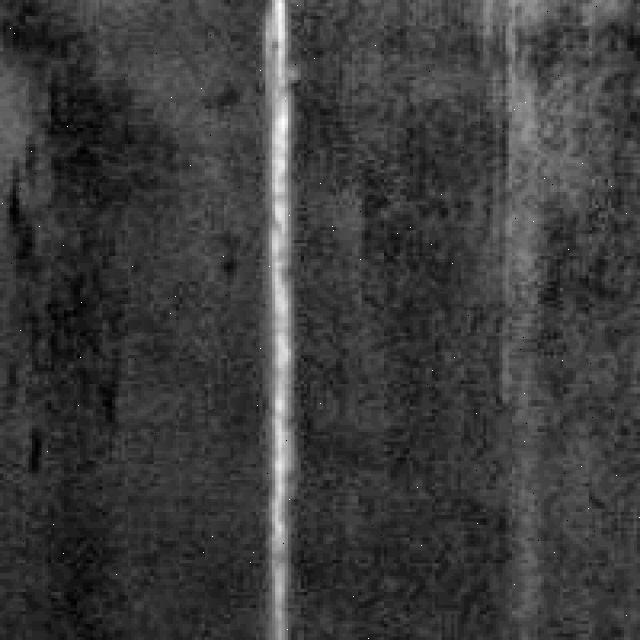Inclusion: (250, 0, 308, 634)
